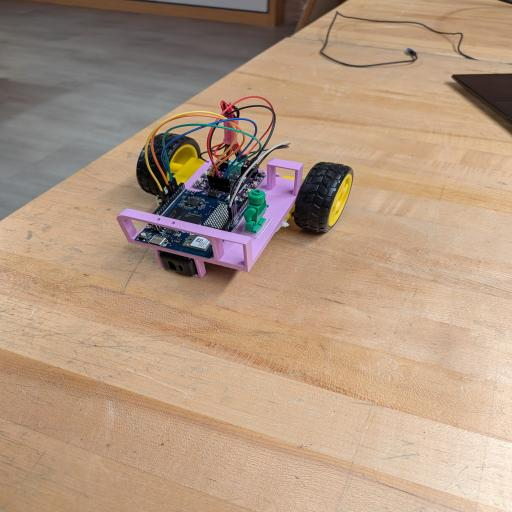Minifig: (244, 190, 268, 233)
